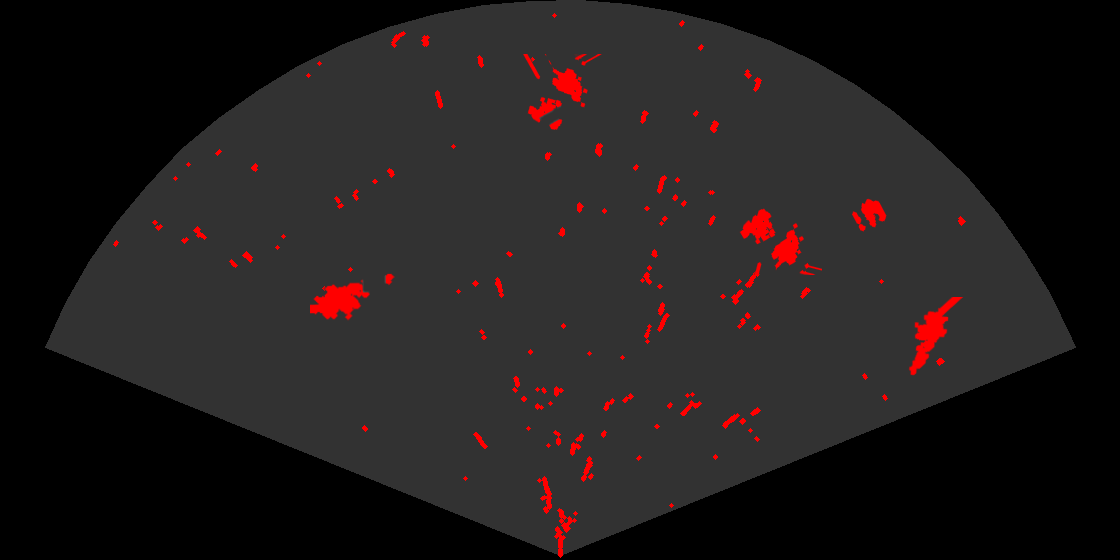ball: (850, 197, 888, 233)
cage: (522, 54, 603, 131), (738, 207, 822, 275)
frogman: (907, 297, 965, 377), (310, 272, 395, 322)
